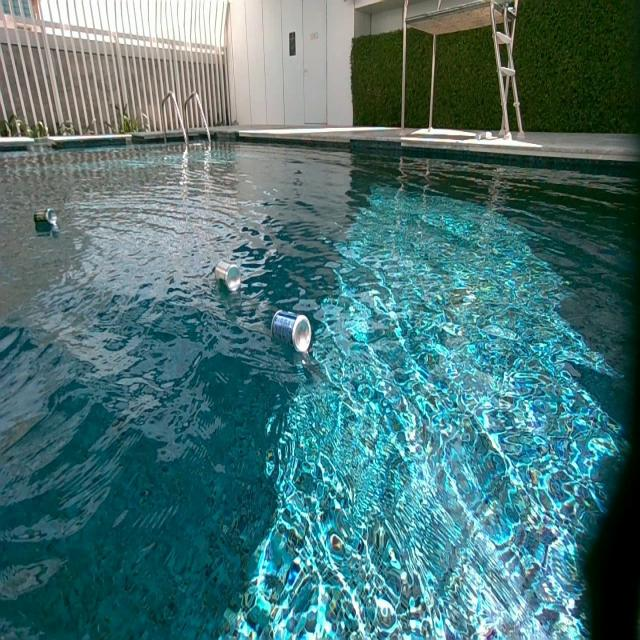Cans: (273, 311, 311, 354), (217, 265, 242, 293), (33, 209, 56, 228)
